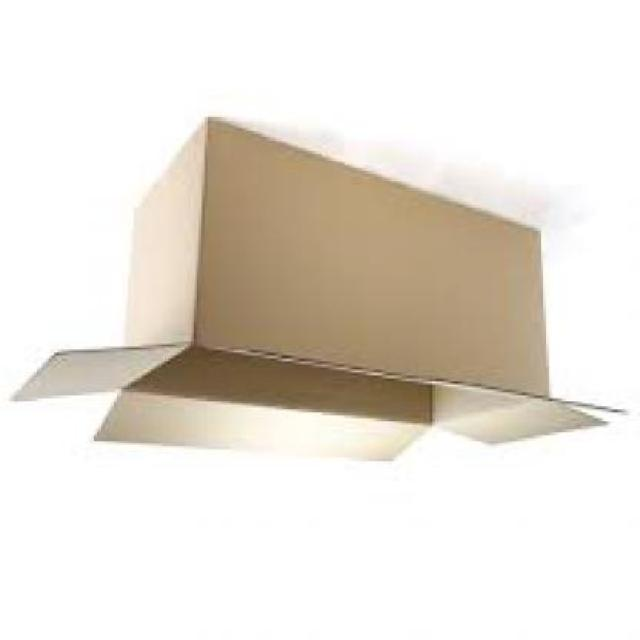CARDBOARD: (14, 122, 629, 464)
